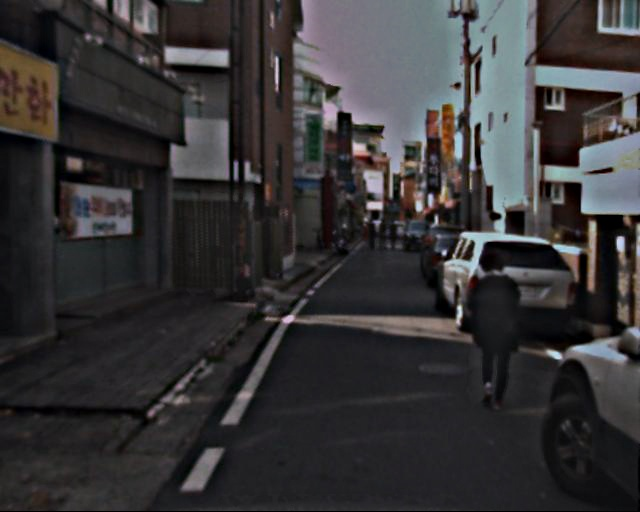person: (457, 251, 526, 411), (367, 219, 401, 257)
